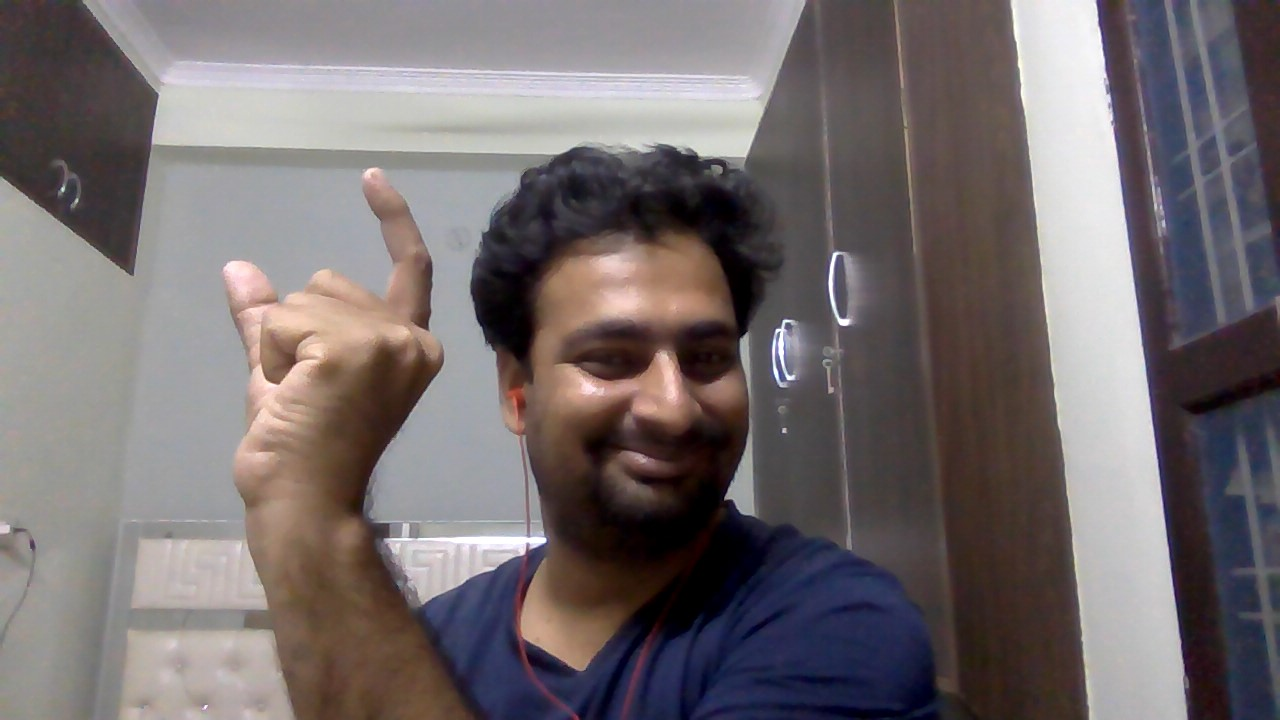Paste: (199, 159, 461, 523)
